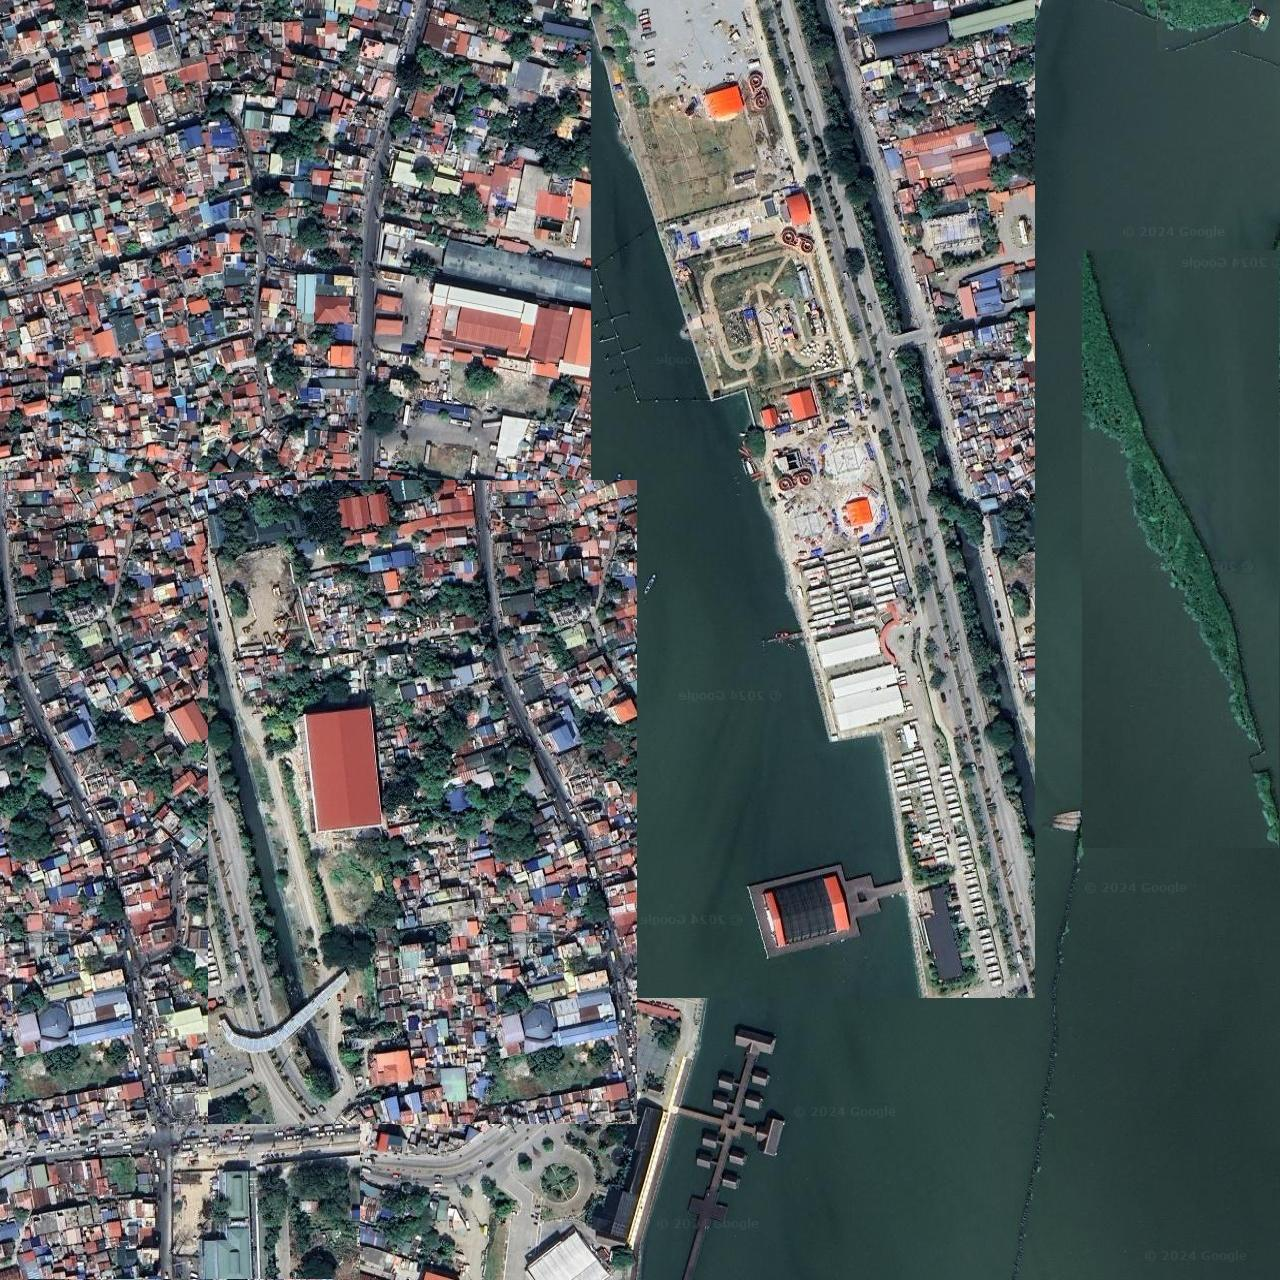greenery: (499, 0, 850, 1099), (1083, 250, 1279, 845), (1158, 4, 1250, 52)
house: (592, 0, 1035, 998), (0, 472, 360, 1279), (0, 2, 430, 646), (209, 481, 636, 1124), (372, 0, 798, 501), (199, 1159, 496, 1280)
